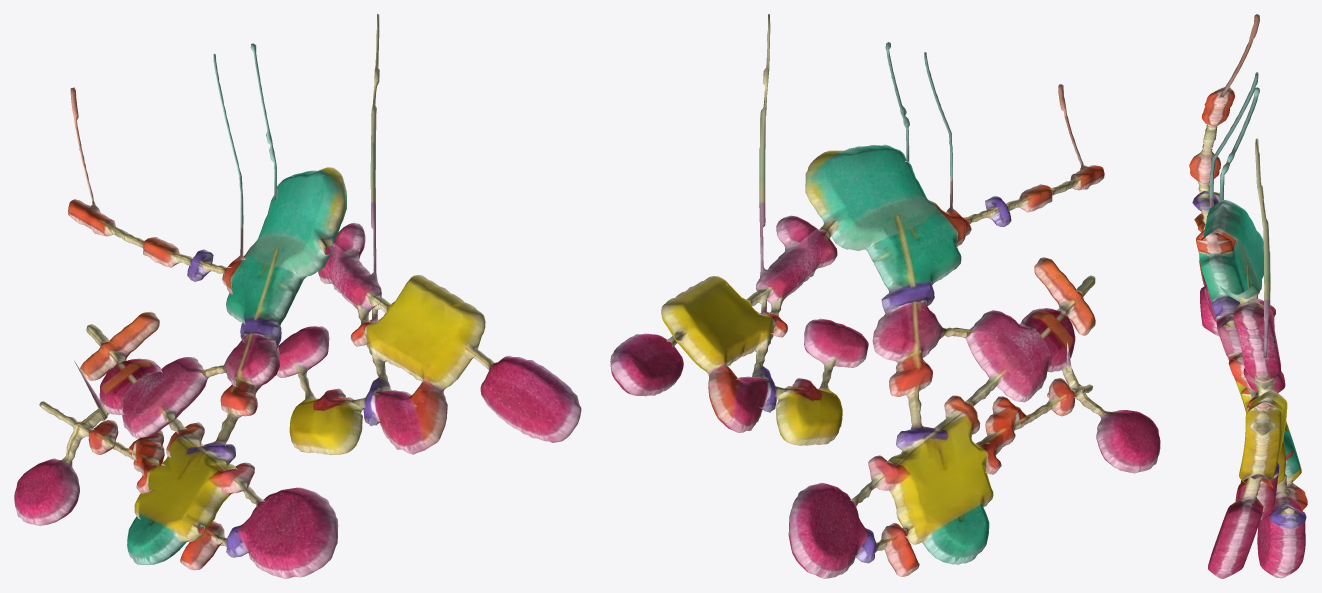
The model's file is hy3d-mov-031.glb.
The picture shows the model from 3 angles, left to right: view 1: azimuth 30°, elevation 25°; view 2: azimuth 150°, elevation 25°; view 3: azimuth 270°, elevation 25°; orthographic projection. The views are drawn at different scales.
Visible parts, largest first — view 1: world; view 2: world; view 3: world.
Part boxes in pixels (x1,y1,x2,y2): world: (14,14,581,578); world: (610,14,1160,578); world: (1189,14,1307,578).
Bounding box in the file's own units: 2.67 × 2.51 × 0.5794.
1 material, 1 textured.
